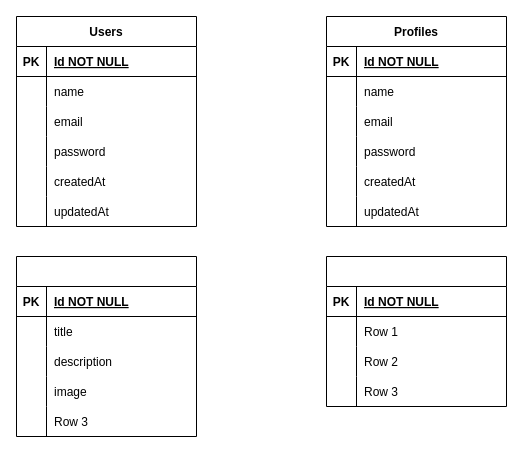
Image size: 523x453. Some labels were removed from this diagram. Each missing label, with the box of its shape:
Categories: (326, 256, 506, 406)
Posts: (16, 256, 196, 436)
